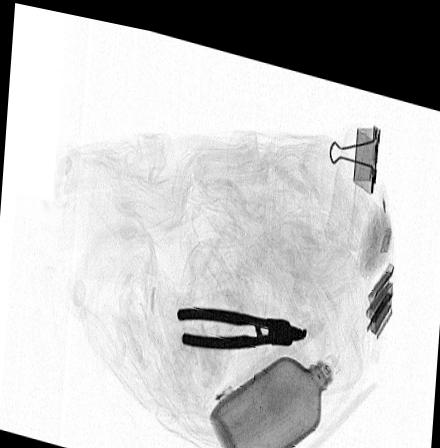Pliers: (177, 296, 310, 342)
